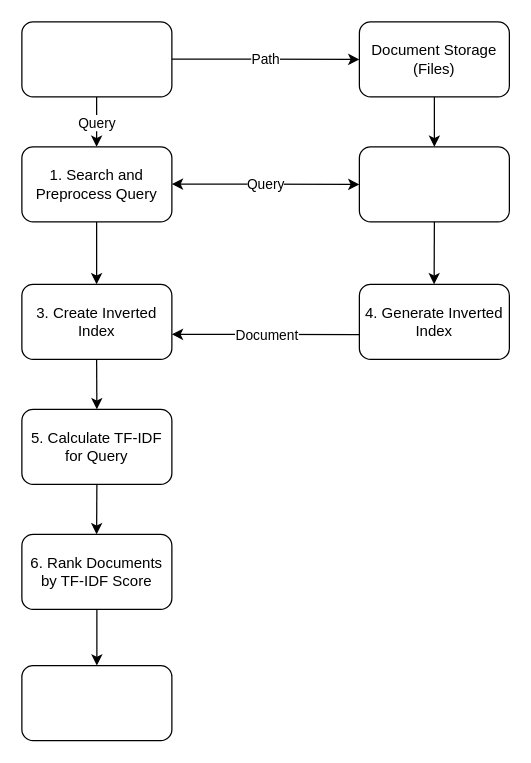
Some shapes in this 531 by 763 pixel diagram are drawn without their labels. The shapes that lost their labels are listed below. From the top down, each one's centre as x and y in pixels, then its label:
the point at 96,59: User Input (Query and Path)
the point at 433,184: 2. Preprocess Documents
the point at 96,702: 7. Display Ranked documents to User
